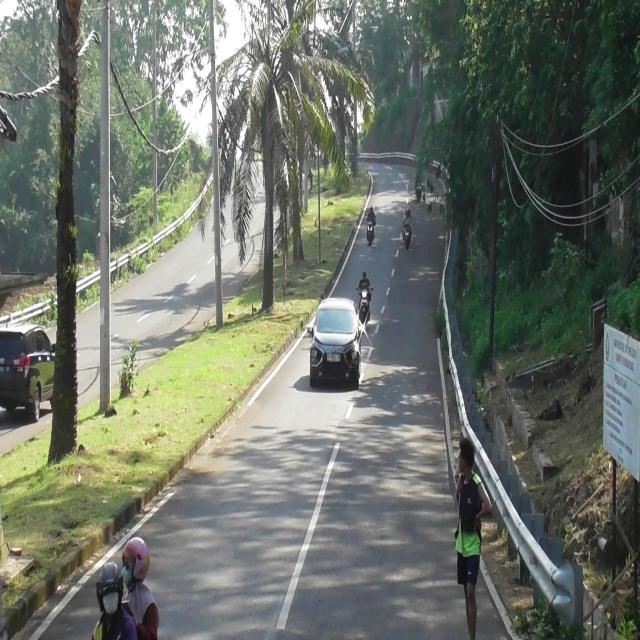motorcycle: (356, 285, 372, 327), (366, 217, 375, 247), (402, 222, 411, 250)
person: (117, 531, 161, 640), (94, 567, 136, 640), (358, 271, 374, 299), (367, 205, 376, 225), (404, 210, 411, 226), (407, 205, 411, 218)
rider_region: (357, 273, 374, 327), (400, 202, 414, 254), (365, 202, 377, 246)
